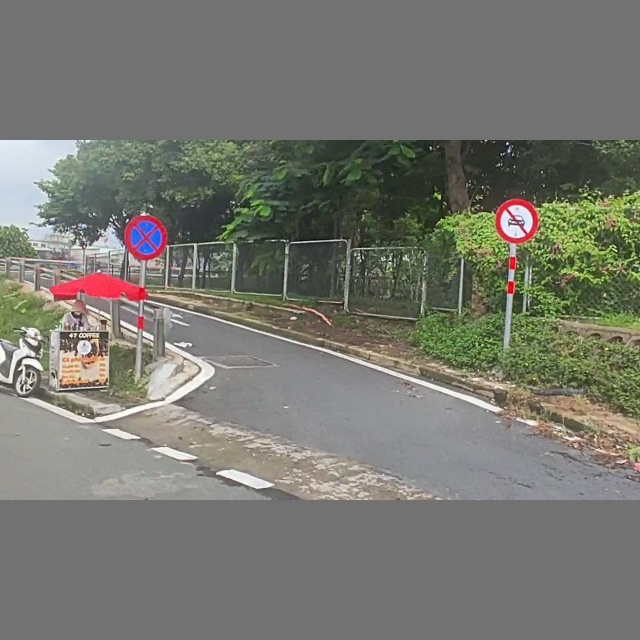P.103a: (494, 197, 539, 245)
P.130: (124, 215, 168, 262)
